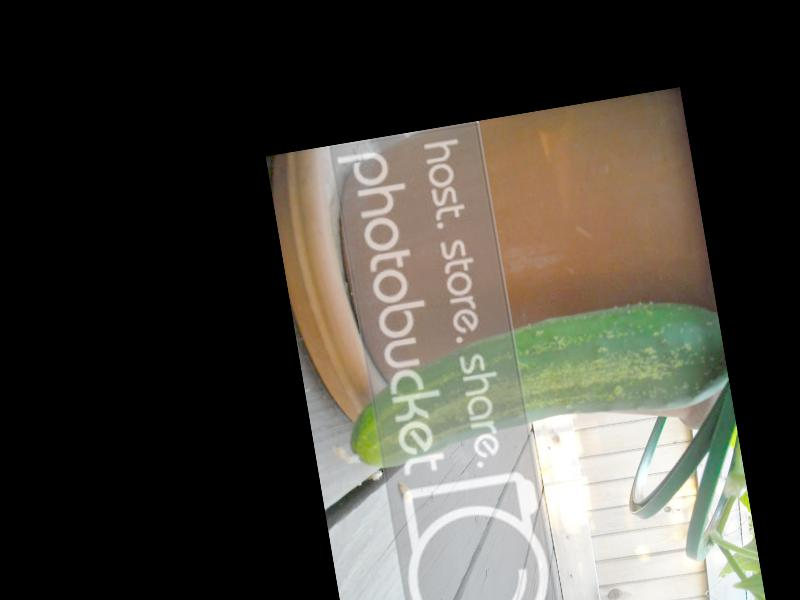Cucumber: (318, 291, 729, 475)
